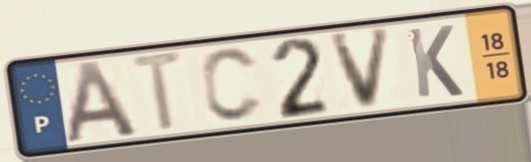2: (268, 36, 332, 123)
A: (61, 57, 143, 147)
C: (197, 45, 267, 126)
K: (403, 22, 466, 101)
T: (127, 47, 191, 137)
V: (326, 24, 396, 114)
